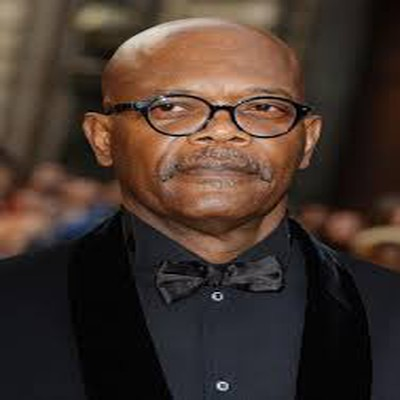eywear: (130, 67, 312, 152)
